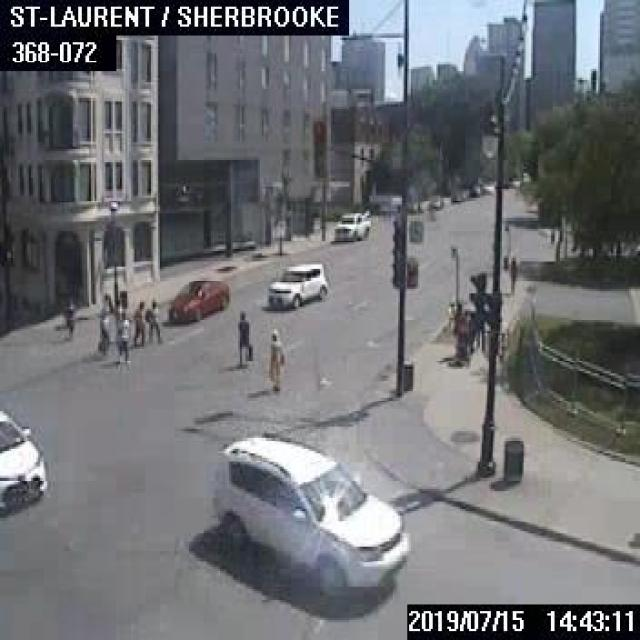pedestrian: (266, 329, 284, 389), (236, 311, 253, 367), (114, 310, 129, 364), (144, 296, 160, 342), (455, 302, 467, 360), (131, 299, 144, 343), (60, 298, 73, 338), (95, 311, 107, 353), (507, 256, 518, 291)
vehicle: (211, 431, 407, 598), (0, 404, 47, 517), (266, 260, 328, 309), (168, 278, 229, 320), (333, 209, 369, 242)
